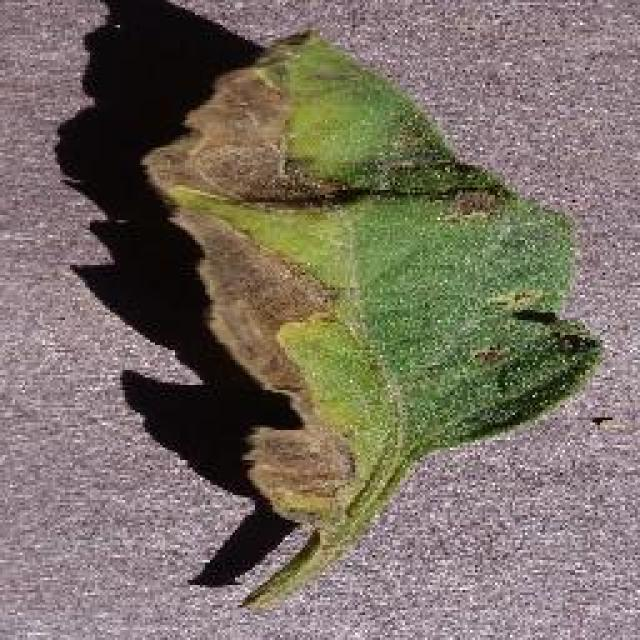Tomato Early blight leaf: (154, 35, 591, 595)
